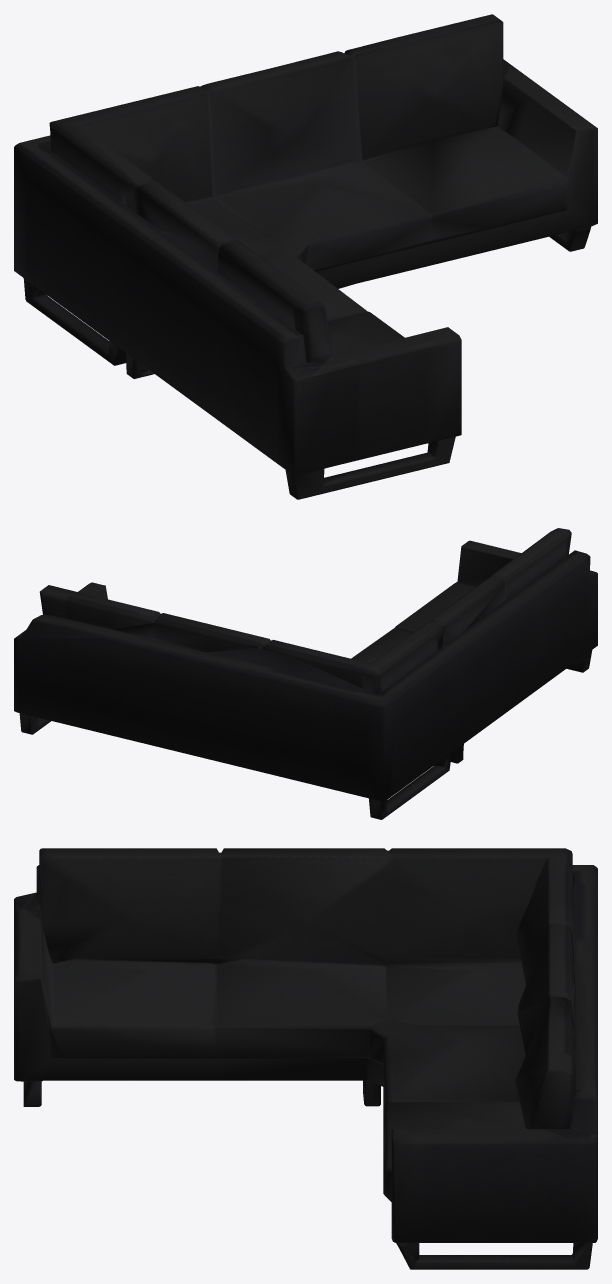
File: Meshy_AI_Facet_Corner_Sofa_0509134034_texture.fbx
3 renders of one model, top to bottom at view 1: azimuth 30°, elevation 25°; view 2: azimuth 150°, elevation 25°; view 3: azimuth 270°, elevation 25°, orthographic. The views are drawn at different scales.
Visible parts, largest first — view 1: Mesh_0; view 2: Mesh_0; view 3: Mesh_0.
Boxes of the visible parts, x1,y1,x2,y2 form: Mesh_0: (14, 14, 597, 499); Mesh_0: (14, 528, 597, 819); Mesh_0: (14, 848, 597, 1269).
Bounding box in the file's own units: 191 × 68.88 × 191.
1 material, 1 textured.
